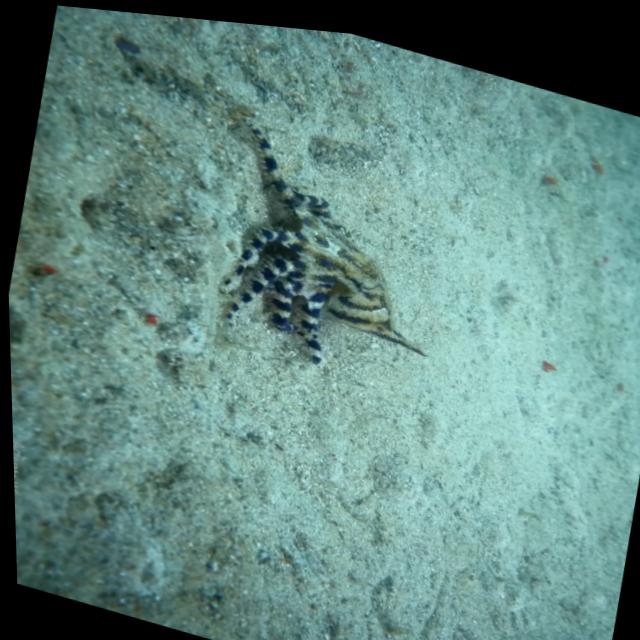blue_ringed_octopus: (187, 95, 466, 395)
